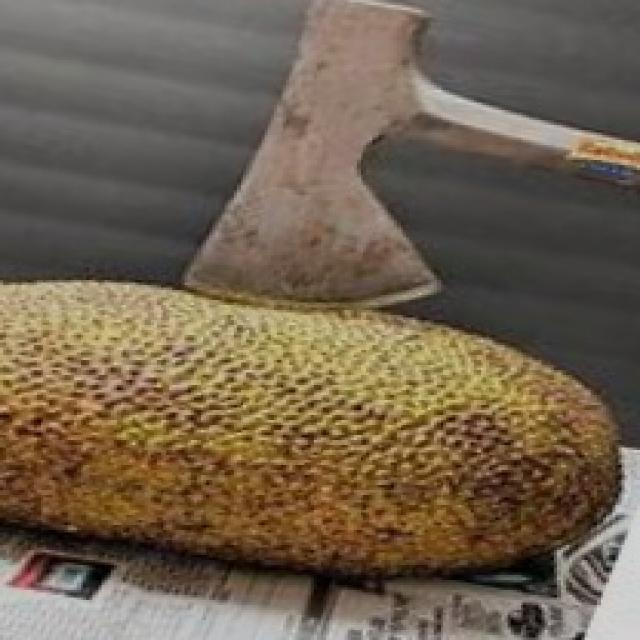Fruit: (0, 235, 400, 637), (246, 257, 640, 625)
